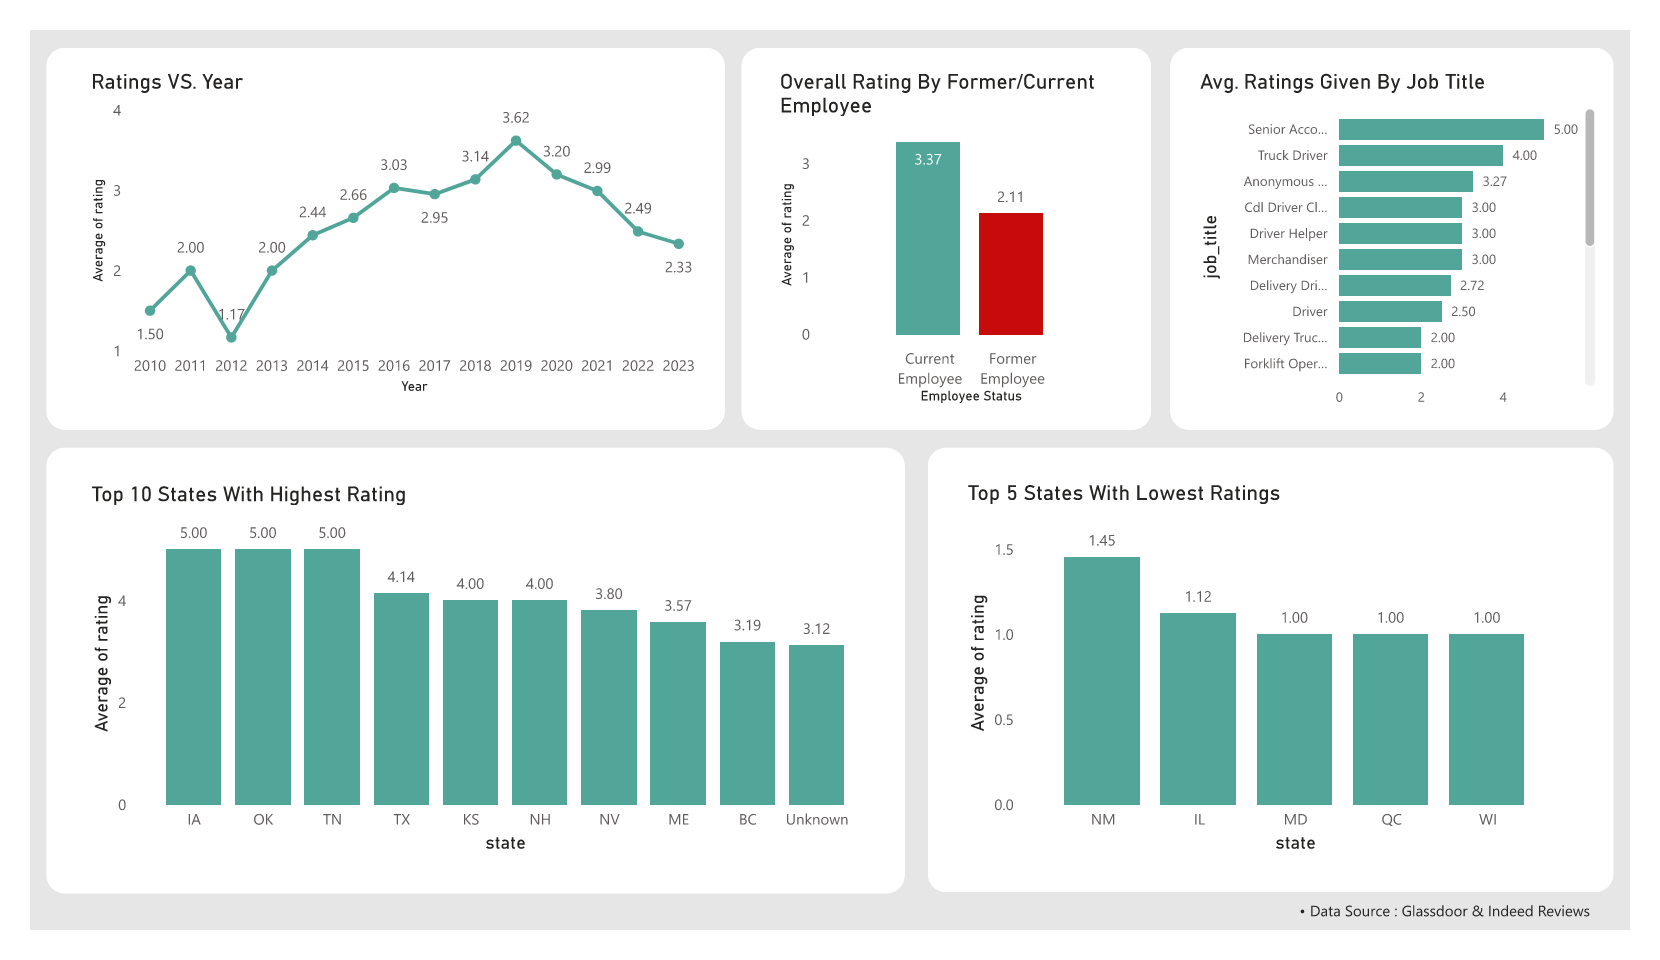

What the dashboard file says about the page in this screenshot:
{"tool":"powerbi","page":{"name":"Ratings over Year","canvas":[1280,720],"ordinal":0},"visuals":[{"type":"shape","box":[912.1,13.7,355.2,306.7],"z":0},{"type":"shape","box":[717.6,334.2,549.7,356],"z":1000},{"type":"shape","box":[12.9,334.2,686.9,356.8],"z":2000},{"type":"shape","box":[569.1,13.7,327.7,306.7],"z":3000},{"type":"shape","box":[12.9,13.7,543.2,306.7],"z":4000},{"type":"lineChart","title":"Ratings VS. Year","fields":{"Category":["Combined.comment_date.Variation.Date Hierarchy.Year"],"Y":["Avg(Combined.rating)"]},"box":[44.4,31.5,494.8,264.8],"z":5000},{"type":"clusteredColumnChart","title":"Top 10 States With Highest Rating","fields":{"Category":["Combined.state"],"Y":["Avg(Combined.rating)"]},"box":[44.2,360.8,635.2,302.7],"z":6000},{"type":"clusteredColumnChart","title":"Top 5 States With Lowest Ratings","fields":{"Category":["Combined.state"],"Y":["Avg(Combined.rating)"]},"box":[745,360,487.5,302.7],"z":7000},{"type":"columnChart","title":"Overall Rating By Former/Current Employee","fields":{"Category":["Combined.employee_status"],"Y":["Avg(Combined.rating)"]},"box":[594.9,31.5,281.7,271.2],"z":8000},{"type":"textbox","box":[1000.9,690.9,276.9,29.1],"z":9000},{"type":"clusteredBarChart","title":"Avg. Ratings Given By Job Title","fields":{"Category":["Combined_py.job_title"],"Y":["Avg(Combined_py.rating)"]},"box":[930.7,31.5,326.1,280.1],"z":10000}]}

Visuals, with their boxes in screenshot pixels (x1, y1, x2, y2), scaled from the page's 1280x720 canvas onto the 1660x960 screenshot:
shape: 1183,18,1644,427
shape: 931,446,1644,920
shape: 17,446,908,921
shape: 738,18,1163,427
shape: 17,18,721,427
"Ratings VS. Year" lineChart: 58,42,699,395
"Top 10 States With Highest Rating" clusteredColumnChart: 57,481,881,885
"Top 5 States With Lowest Ratings" clusteredColumnChart: 966,480,1598,884
"Overall Rating By Former/Current Employee" columnChart: 772,42,1137,404
textbox: 1298,921,1657,959
"Avg. Ratings Given By Job Title" clusteredBarChart: 1207,42,1630,415
